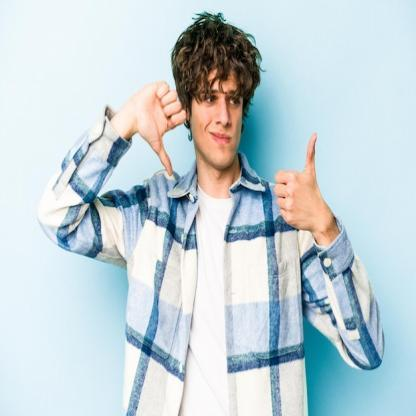thumb_down: (130, 75, 188, 179)
thumb_up: (269, 128, 328, 235)
